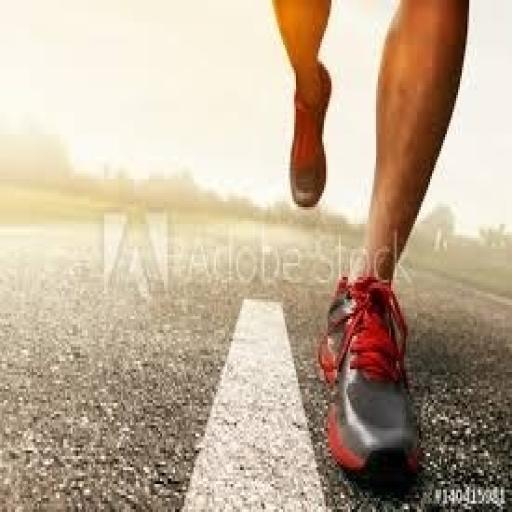running: (268, 0, 473, 484)
